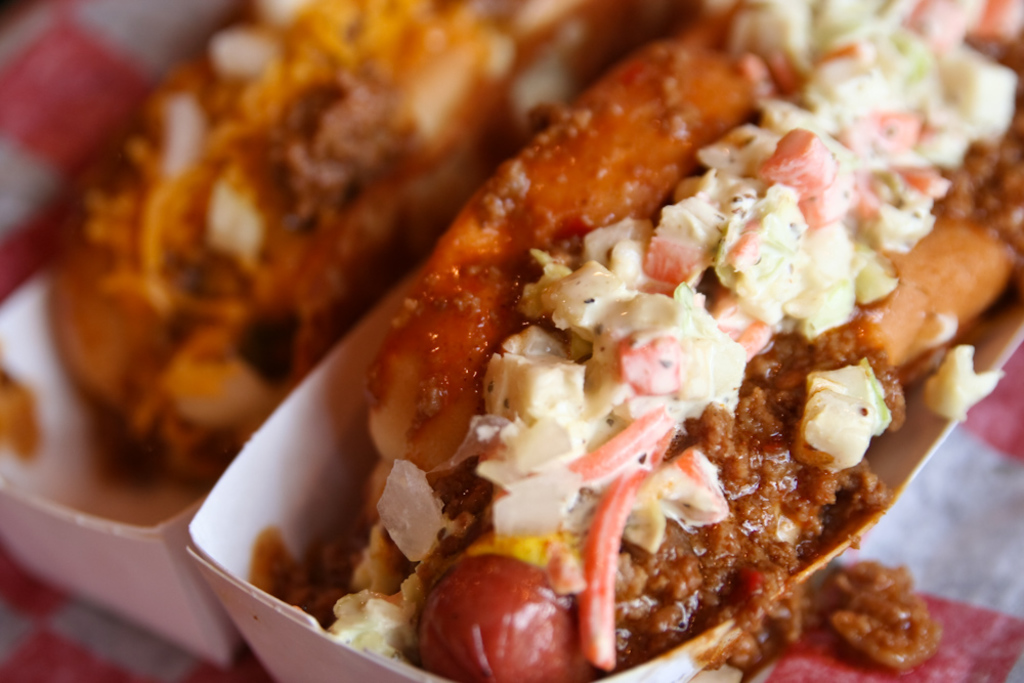hot_dog: (329, 0, 1023, 682)
